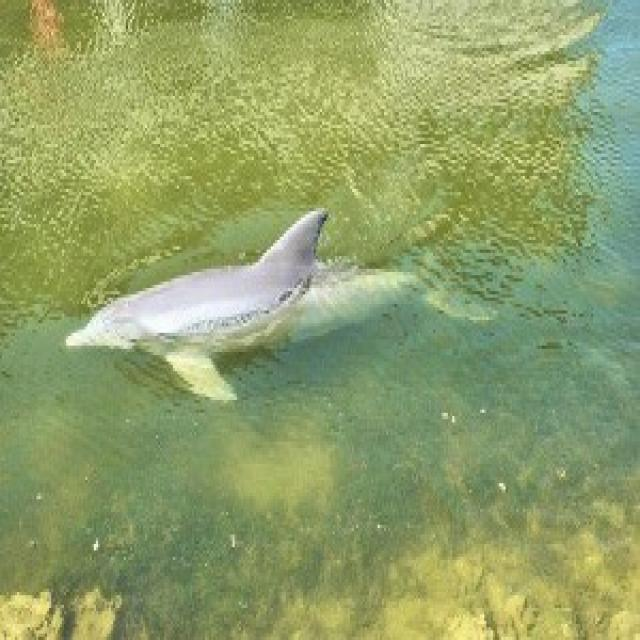Dolphin: (60, 196, 475, 439)
